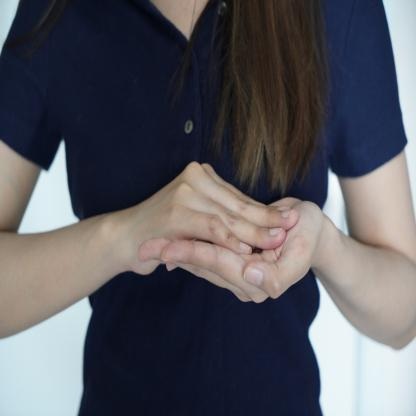Love: (91, 158, 343, 312)
